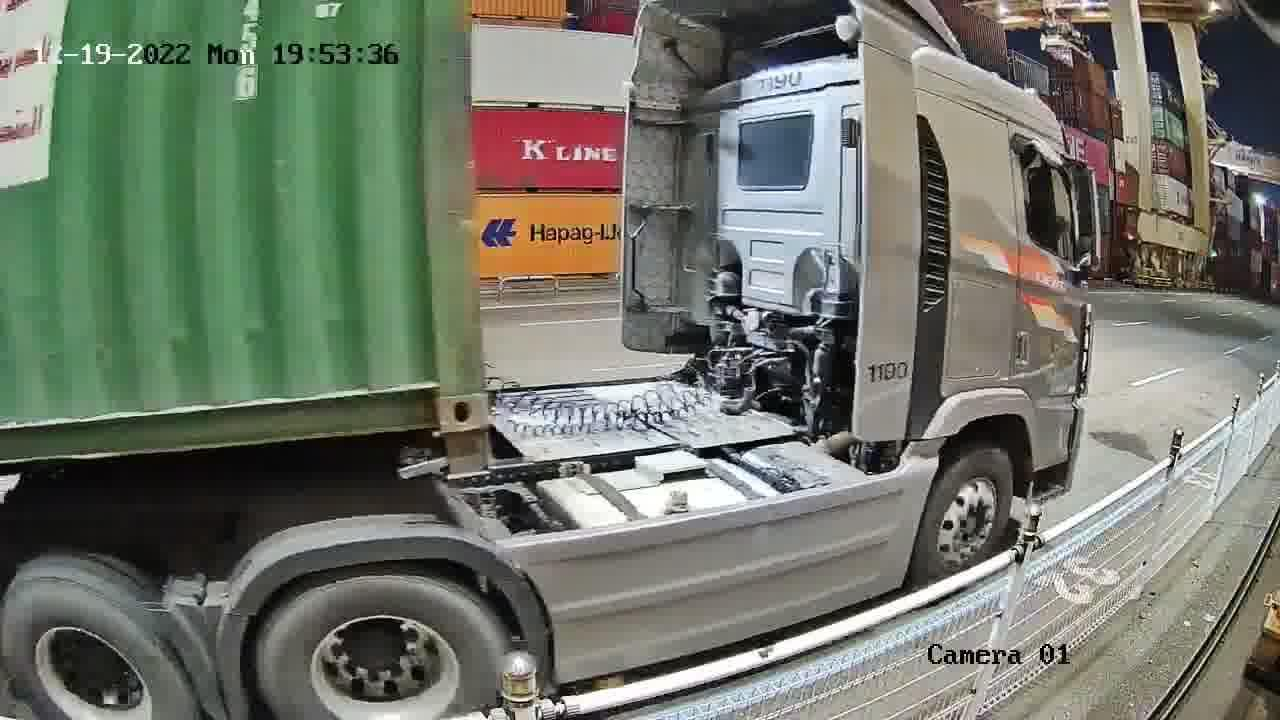Cone: (434, 426, 492, 481)
Hole_R: (372, 333, 487, 432)
Tire: (259, 579, 501, 719), (1, 581, 191, 717)
